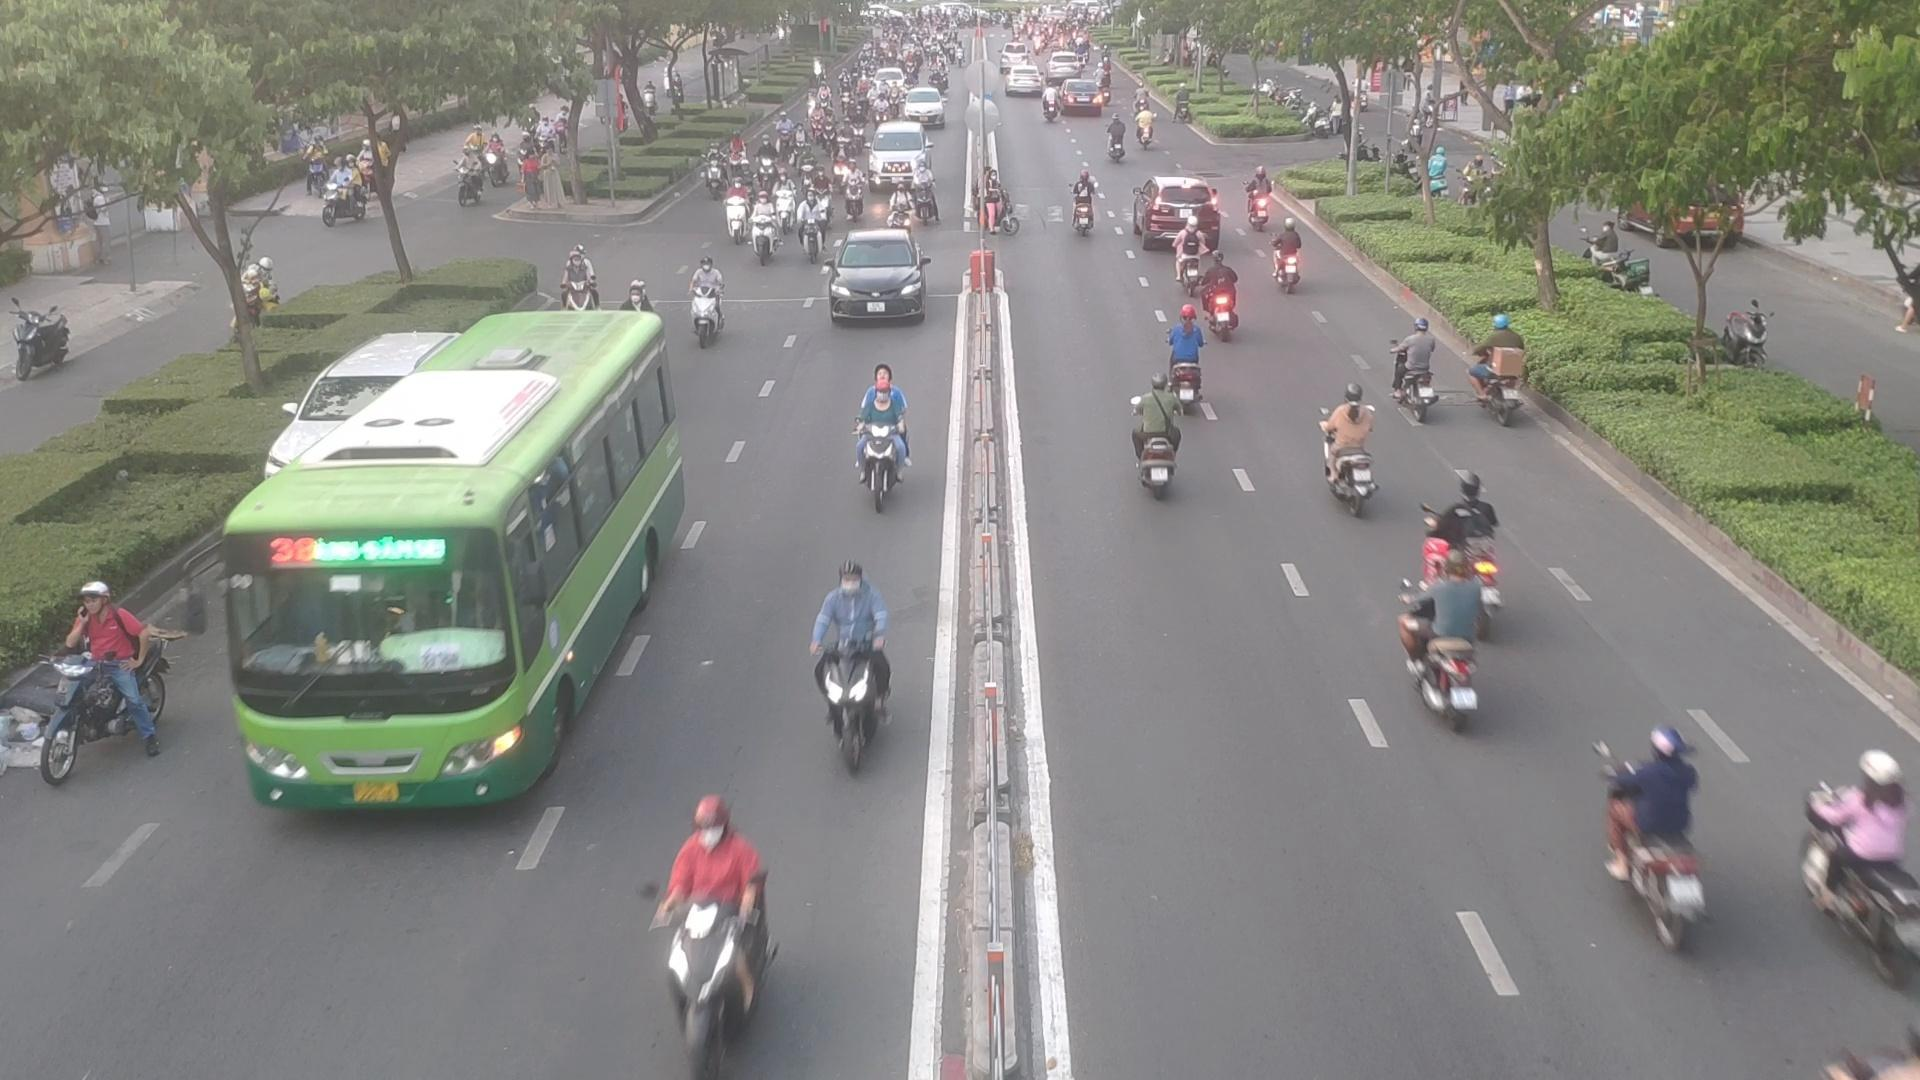car: (225, 307, 678, 818), (822, 233, 928, 327), (1131, 185, 1221, 252)
motorbike: (637, 814, 779, 1067), (41, 559, 187, 789), (1804, 745, 1920, 978), (1605, 735, 1717, 947), (1396, 542, 1507, 723), (807, 567, 898, 764), (841, 371, 916, 502), (1312, 390, 1383, 510), (1127, 378, 1189, 493), (1480, 311, 1534, 426), (1393, 320, 1456, 418), (687, 256, 738, 345), (1197, 258, 1251, 342), (1269, 223, 1308, 291), (1063, 171, 1102, 236), (746, 208, 783, 265), (836, 164, 868, 224)
